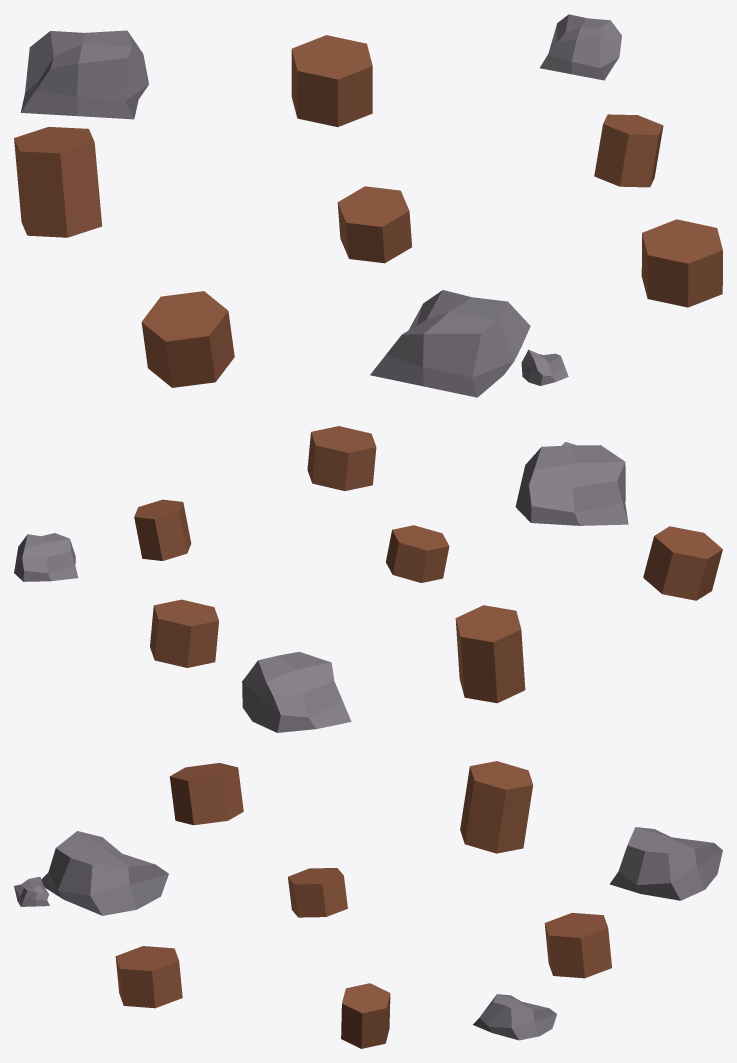
Rendered from ForestCutDown.fbx.
3 renders of one model, top to bottom at view 1: azimuth 30°, elevation 25°; view 2: azimuth 150°, elevation 25°; view 3: azimuth 270°, elevation 25°, orthographic. The views are drawn at different scales.
Parts seen in each view (by area): view 1: ForestCutDown; view 2: ForestCutDown; view 3: ForestCutDown.
Part boxes in pixels (x1,y1,x2,y2): ForestCutDown: (14, 14, 722, 397); ForestCutDown: (14, 426, 722, 732); ForestCutDown: (14, 761, 722, 1048).
Size of the model in its own units: 0.7349 by 0.1079 by 0.8599.
